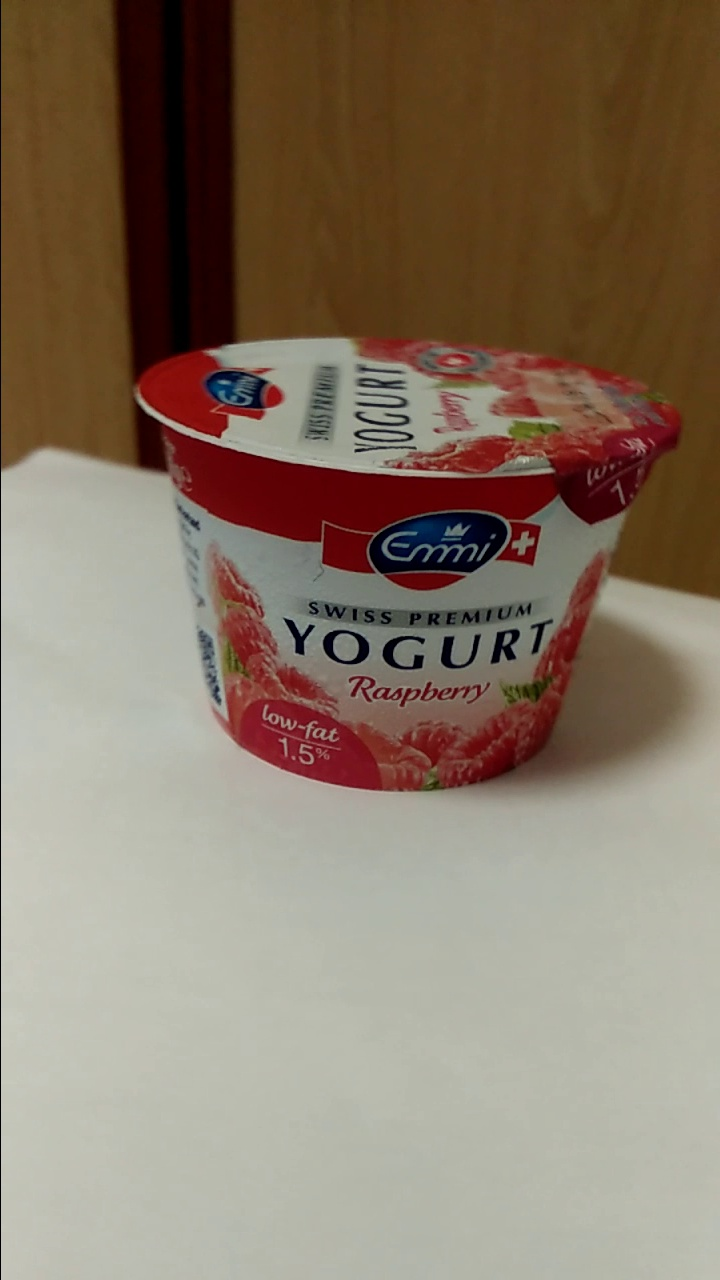yogurt: (135, 341, 654, 796)
